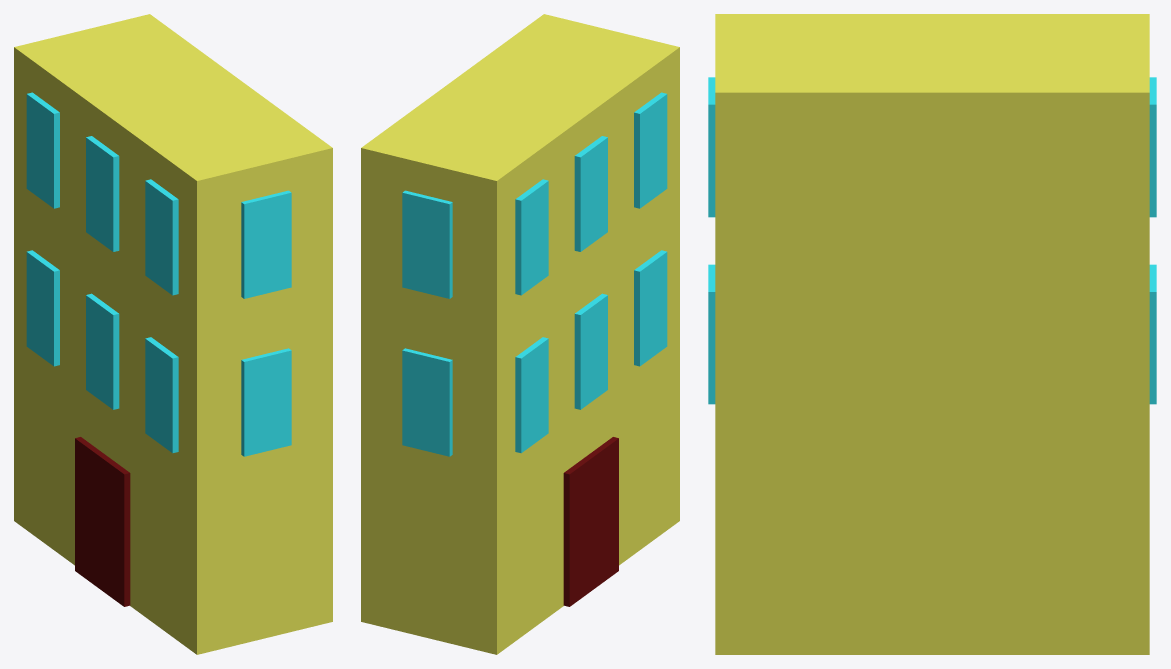
File: house1.gltf
3 views of the same model, side by side, from view 1: azimuth 30°, elevation 25°; view 2: azimuth 150°, elevation 25°; view 3: azimuth 270°, elevation 25° (orthographic). The views are drawn at different scales.
Parts seen in each view (by area): view 1: house, door, Cube.008, Cube.007, Cube.001, Cube.002, Cube.004, Cube.006, Cube.003, Cube.005; view 2: house, door, Cube.010, Cube.009, Cube.002, Cube.001, Cube.004, Cube.005, Cube.003, Cube.006; view 3: house, Cube.007, Cube.009, Cube.008, Cube.010.
Boxes of the visible parts, x1=… form: house: x1=14, y1=14, x2=332, y2=654; door: x1=75, y1=437, x2=130, y2=606; Cube.008: x1=241, y1=348, x2=291, y2=456; Cube.007: x1=241, y1=190, x2=291, y2=298; Cube.001: x1=26, y1=92, x2=59, y2=208; Cube.002: x1=145, y1=179, x2=178, y2=295; Cube.004: x1=86, y1=293, x2=119, y2=409; Cube.006: x1=26, y1=250, x2=59, y2=366; Cube.003: x1=86, y1=136, x2=119, y2=251; Cube.005: x1=145, y1=337, x2=178, y2=453; house: x1=361, y1=14, x2=679, y2=654; door: x1=563, y1=437, x2=618, y2=606; Cube.010: x1=402, y1=348, x2=452, y2=456; Cube.009: x1=402, y1=190, x2=452, y2=298; Cube.002: x1=634, y1=92, x2=667, y2=208; Cube.001: x1=515, y1=179, x2=548, y2=295; Cube.004: x1=574, y1=293, x2=607, y2=409; Cube.005: x1=634, y1=250, x2=667, y2=366; Cube.003: x1=574, y1=136, x2=607, y2=251; Cube.006: x1=515, y1=337, x2=548, y2=453; house: x1=715, y1=14, x2=1149, y2=654; Cube.007: x1=708, y1=77, x2=715, y2=217; Cube.009: x1=1149, y1=77, x2=1156, y2=217; Cube.008: x1=708, y1=264, x2=715, y2=404; Cube.010: x1=1149, y1=264, x2=1156, y2=404.
Bounding box in the file's own units: 6.26 × 20 × 14.45.
